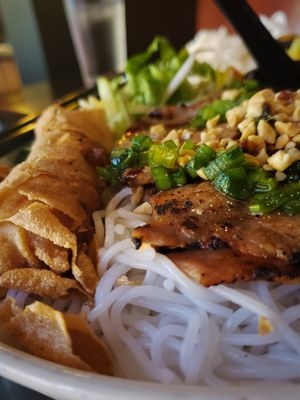sandwich: (210, 0, 300, 87)
